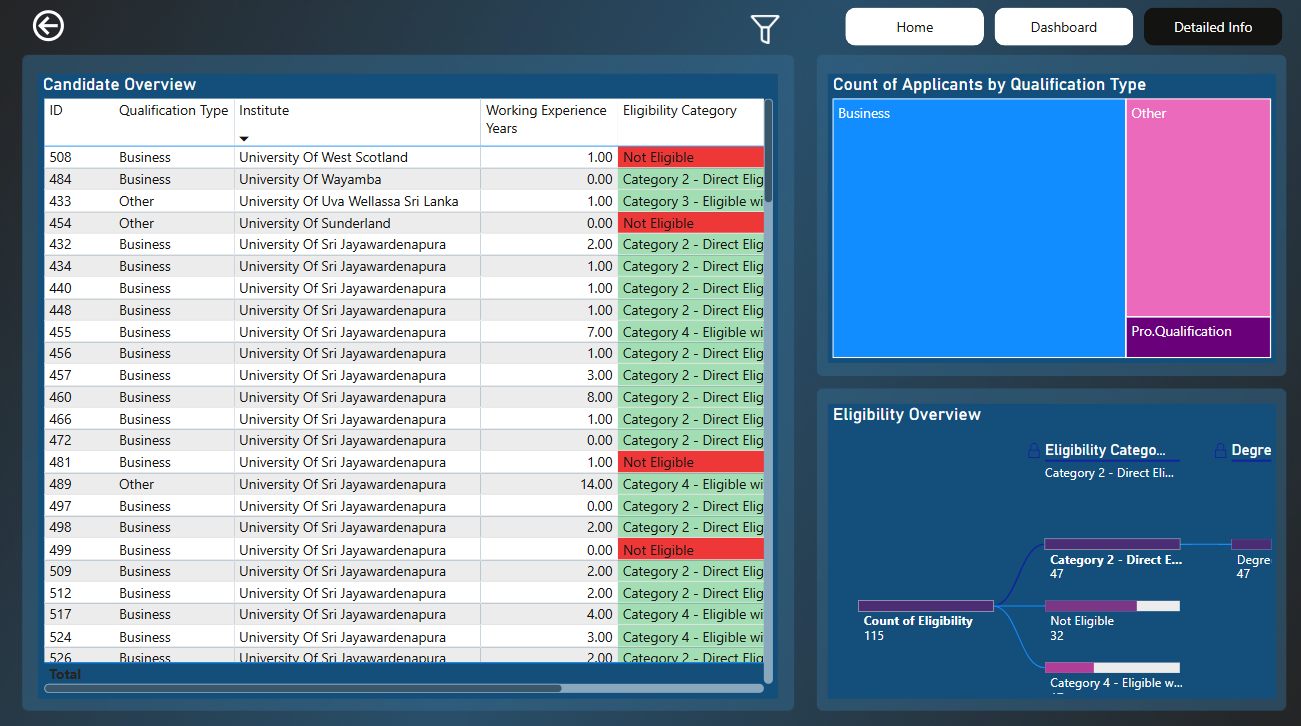

What the dashboard file says about the page in this screenshot:
{"tool":"powerbi","page":{"name":"Detailed Info","canvas":[1280,720],"ordinal":2},"visuals":[{"type":"tableEx","title":"Candidate Overview","fields":{"Values":["Applicant Dataset for Visualization.ID","Applicant Dataset for Visualization.QualificationCategory1","Applicant Dataset for Visualization.Corrected Institute 1","Applicant Dataset for Visualization.Total_Post_Working_Experience_Years","Applicant Dataset for Visualization.Eligibility Category"]},"box":[51.4,80.7,714.7,603],"z":0},{"type":"image","box":[730.8,19.2,45.8,37.5],"z":1500},{"type":"treemap","title":"Count of Applicants by Qualification Type","fields":{"Values":["CountNonNull(Applicant Dataset for Visualization.QualificationCategory1)"],"Group":["Applicant Dataset for Visualization.QualificationCategory1"]},"box":[814.9,80.7,432.7,279.3],"z":2000},{"type":"decompositionTreeVisual","title":"Eligibility Overview","fields":{"Analyze":["CountNonNull(Applicant Dataset for Visualization.Eligibility)"],"ExplainBy":["Applicant Dataset for Visualization.Eligibility Category","Applicant Dataset for Visualization.Degree or not 1"]},"box":[814.9,399,432.7,284.6],"z":3000},{"type":"actionButton","box":[41.7,14.2,100.2,39.9],"z":4000},{"type":"pageNavigator","box":[831.7,16.8,424.7,37.2],"z":5000}]}

Visuals, with their boxes in screenshot pixels (x1, y1, x2, y2), scaled from the page's 1280x720 canvas onto the 1301x726 screenshot:
"Candidate Overview" tableEx: region(52, 81, 779, 689)
image: region(743, 19, 789, 57)
"Count of Applicants by Qualification Type" treemap: region(828, 81, 1268, 363)
"Eligibility Overview" decompositionTreeVisual: region(828, 402, 1268, 689)
actionButton: region(42, 14, 144, 55)
pageNavigator: region(845, 17, 1277, 54)
